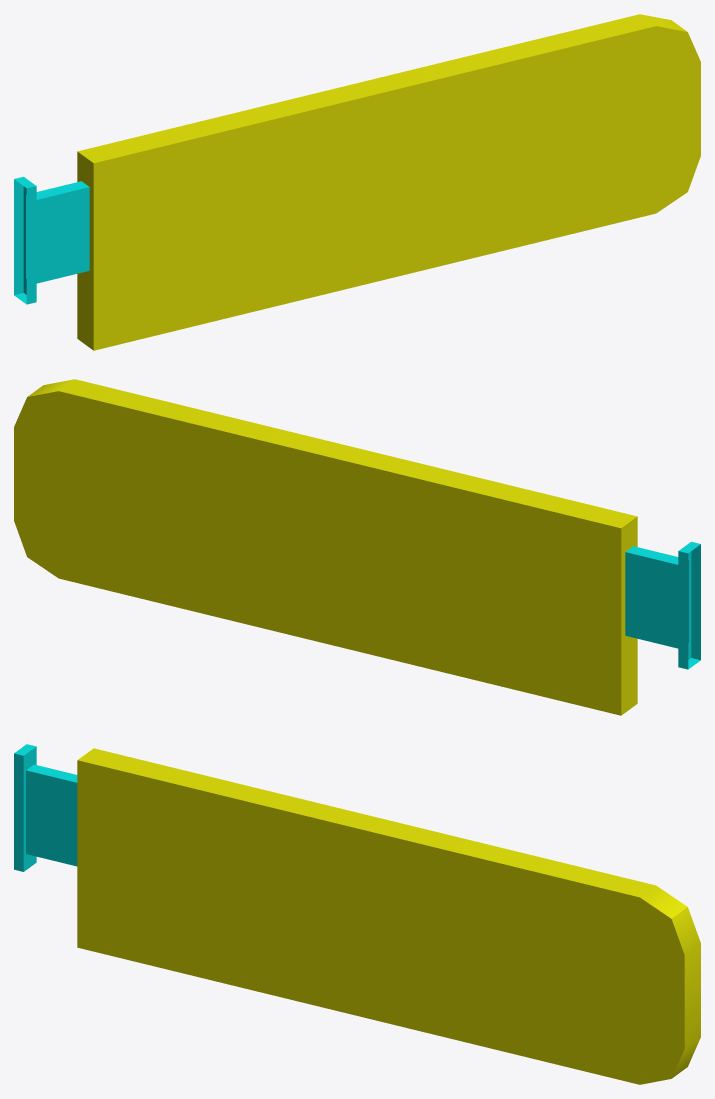
The model's file is StationSign_clock.fbx.
3 views of the same model, one above another, from view 1: azimuth 30°, elevation 25°; view 2: azimuth 150°, elevation 25°; view 3: azimuth 330°, elevation 25° (orthographic).
Visible parts, largest first — view 1: LOW_Accesorios_letrero_reloj; view 2: LOW_Accesorios_letrero_reloj; view 3: LOW_Accesorios_letrero_reloj.
Part boxes in pixels (x1,y1,x2,y2): LOW_Accesorios_letrero_reloj: (14,14,700,350); LOW_Accesorios_letrero_reloj: (14,379,700,715); LOW_Accesorios_letrero_reloj: (14,744,700,1084).
Size of the model in its own units: 22.29 by 5.94 by 0.9359.
